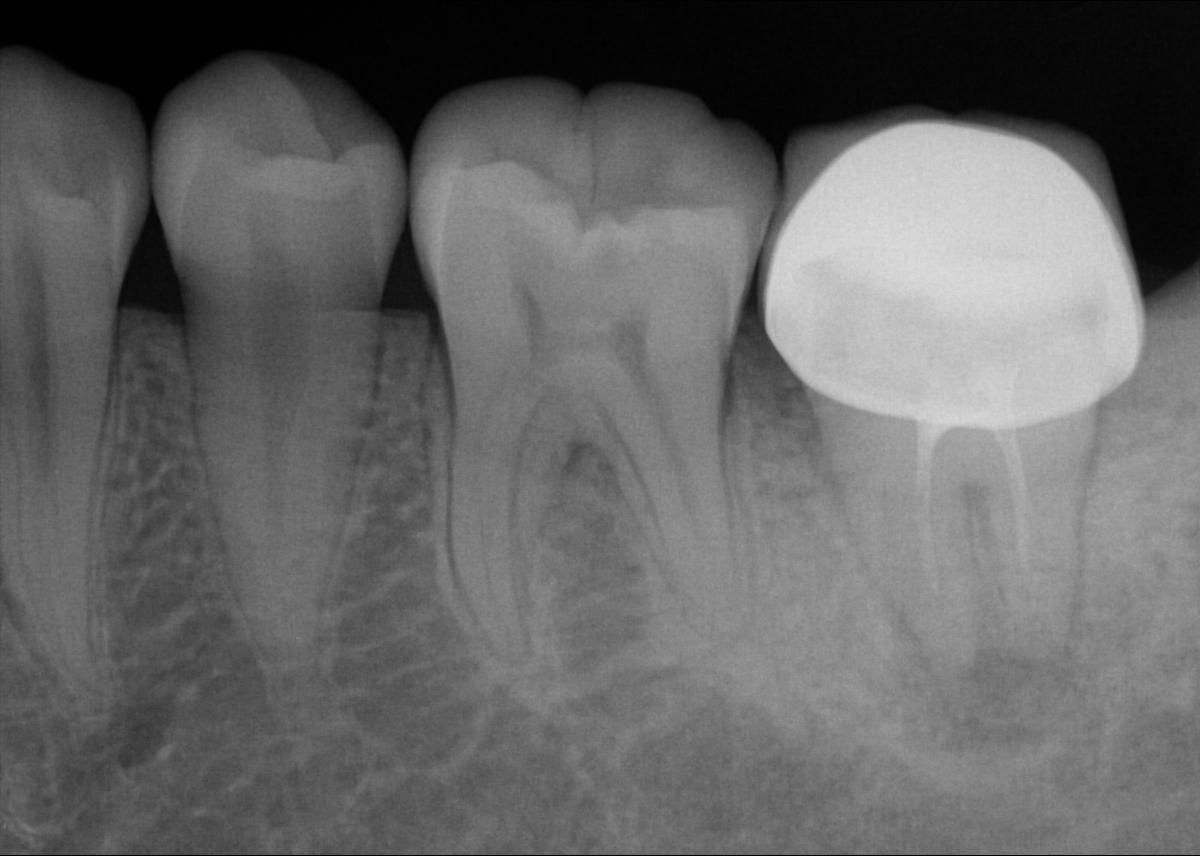Endo-Periodontal Lesion: (557, 440, 627, 498)
Furcation Involvement: (890, 650, 1085, 758)
